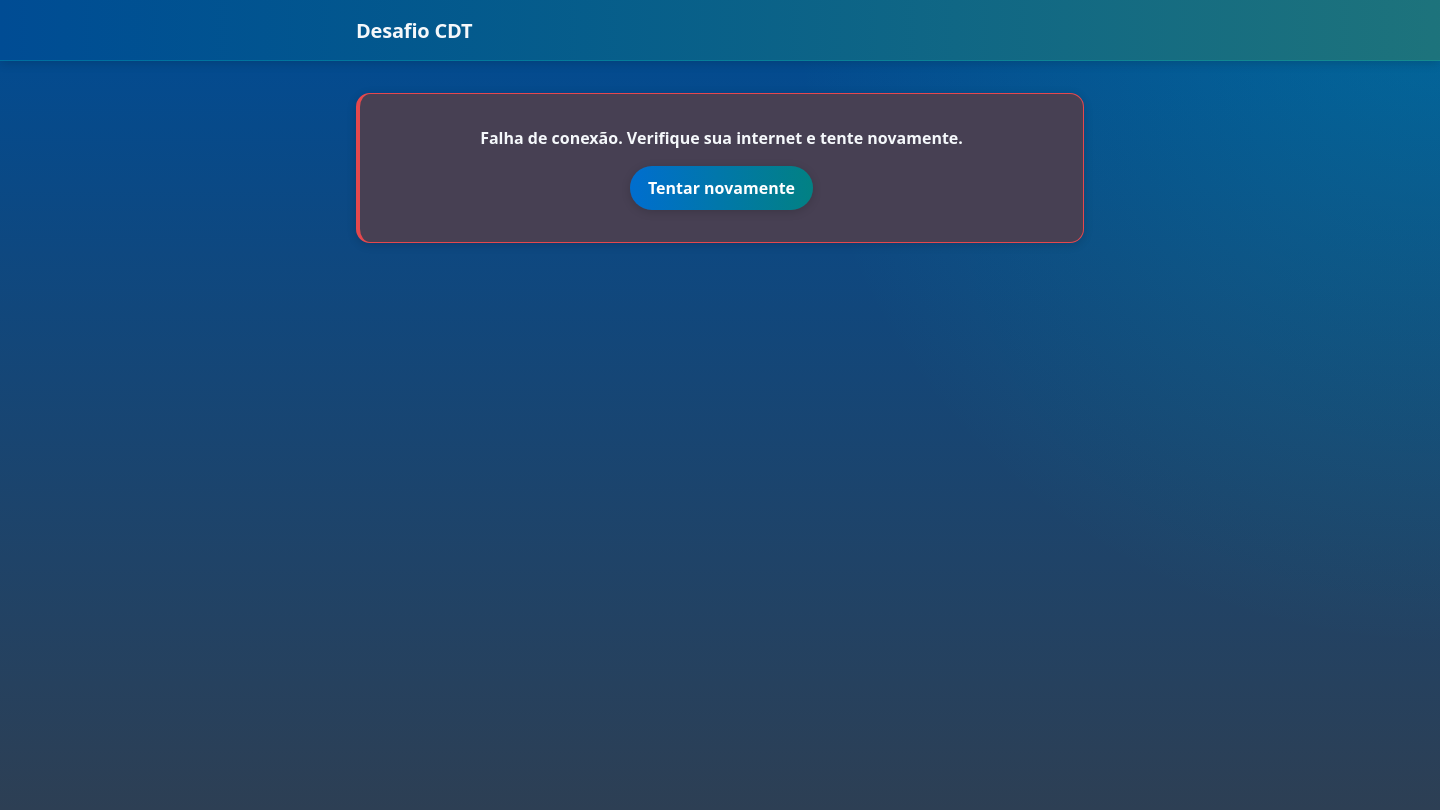
Scenario: App › botão "Tentar novamente" › busca de novo e mostra a lista quando a nova tentativa dá certo
The width and height of the screenshot is (1440, 810).
Click the button "Tentar novamente" at {"x": 722, "y": 188}, box [630, 166, 813, 210]
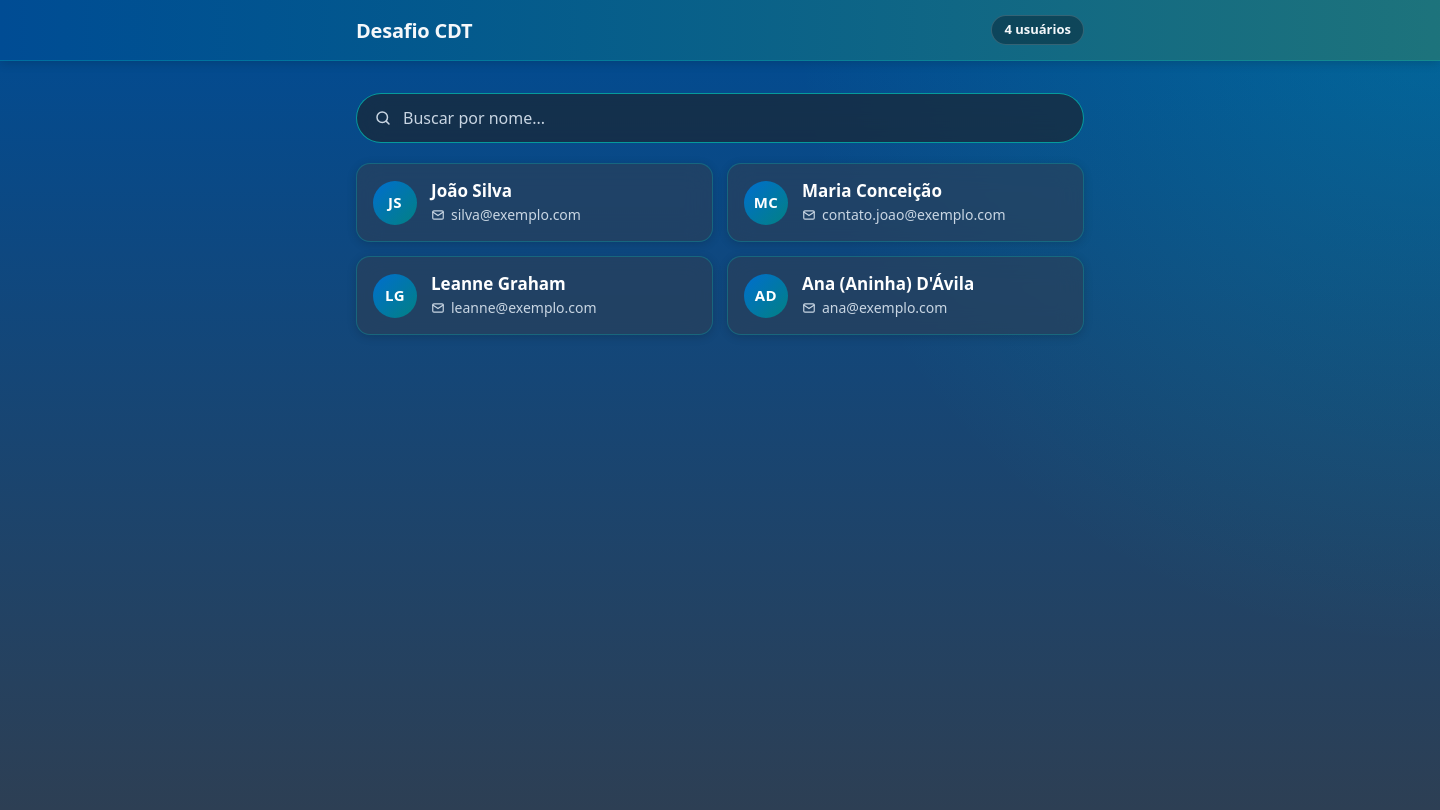
Check: the list is shown, box [356, 163, 1084, 335]
Check: the message "Falha de conexão. Verifique sua internet e tente novamente." is gone
